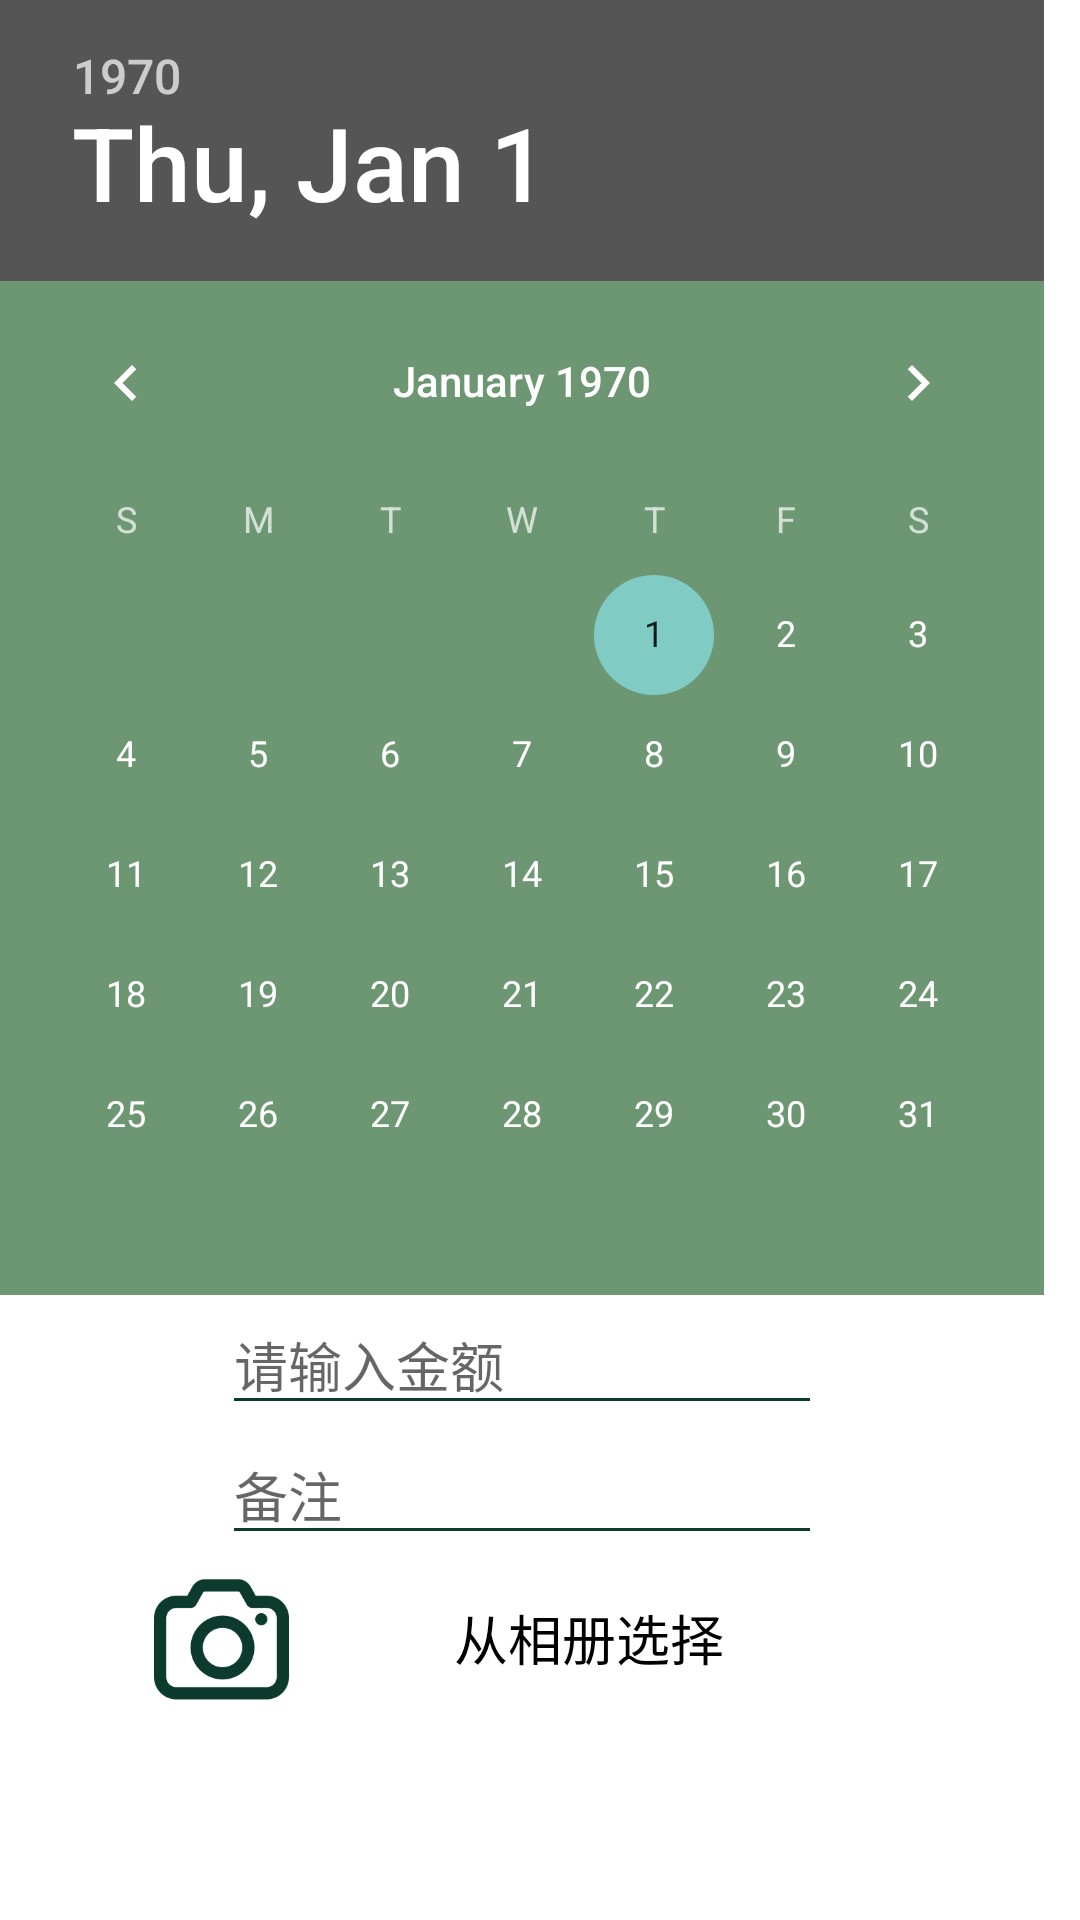

Where icons sit on this 1080 x 1920 app screen, as (x1=x1, y1=y1, x2=x2, y2=y2):
photo: (x1=154, y1=1579, x2=289, y2=1700)
